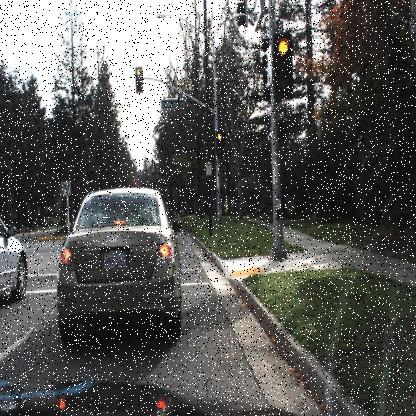car: (53, 183, 184, 345), (0, 202, 30, 303)
trafficLight-Red: (271, 28, 295, 102), (215, 128, 225, 158), (135, 65, 145, 93)
